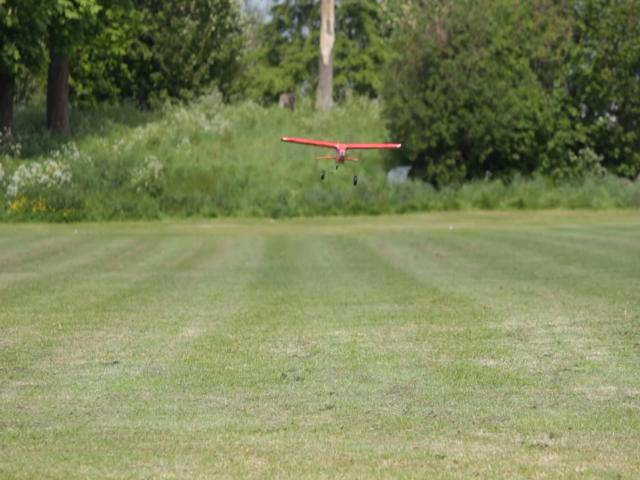plane: (280, 135, 402, 186)
